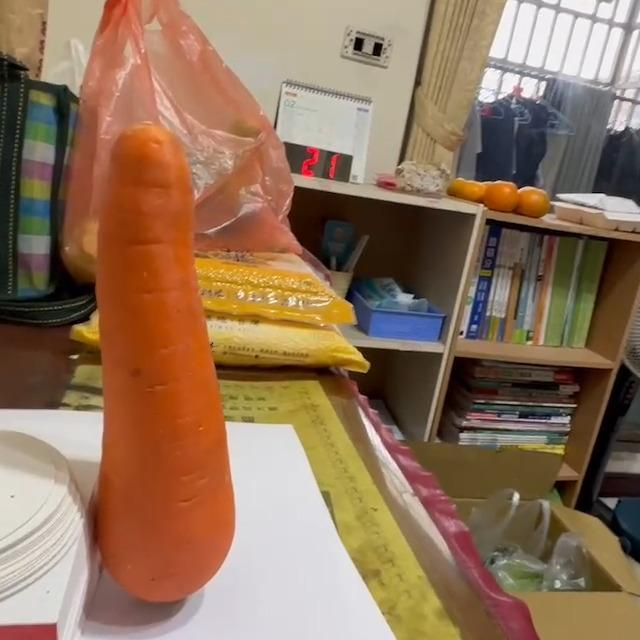carrot: (92, 121, 239, 607)
